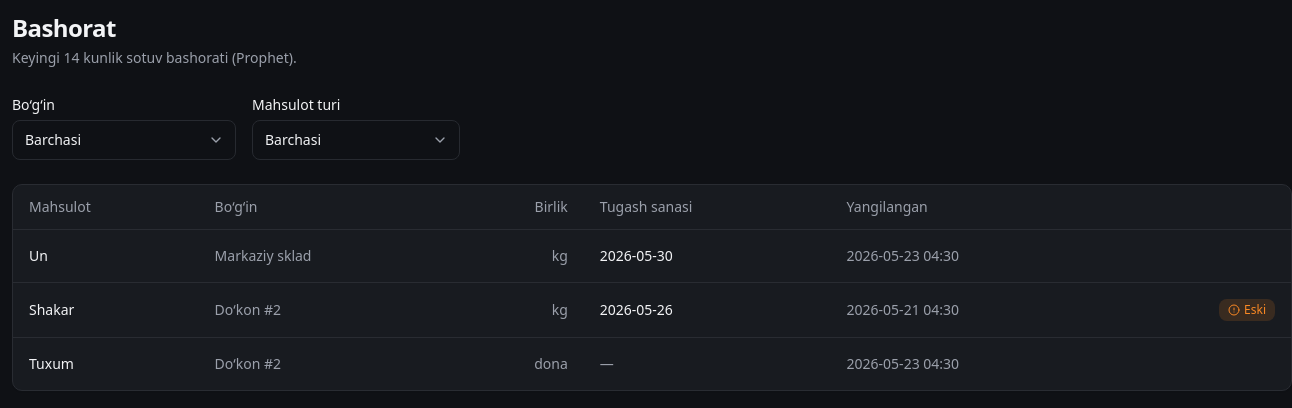
Test: ForecastsPage › filters by product type (joined against /api/products)
Expected: the text "Tuxum" is shown, [13,337,199,390]
Select "Tayyor mahsulot" in the dropdown labelled "Mahsulot turi" at x=356, y=140, box [252,120,460,160]
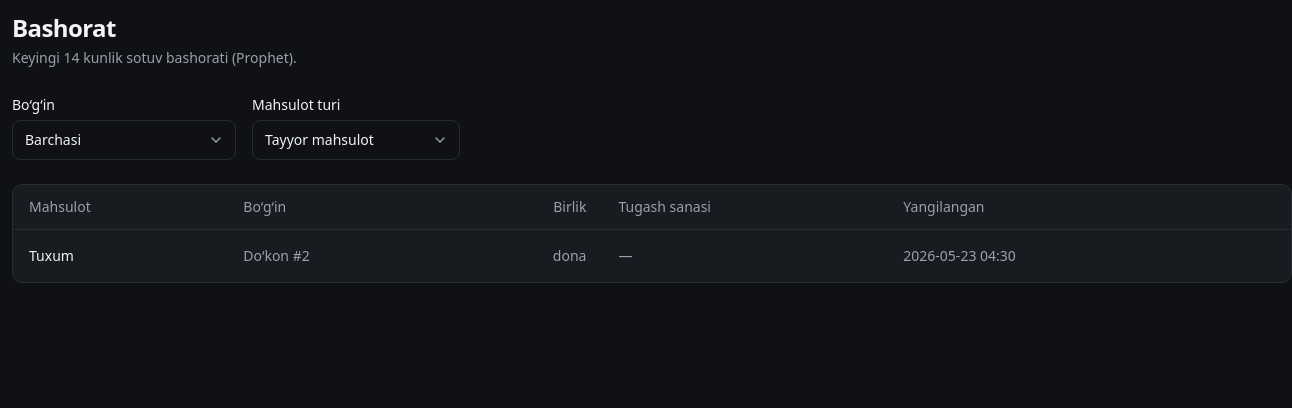
Expected: the text "Tuxum" is shown, [13,229,227,282]
Result: the button "Shakar" is gone
